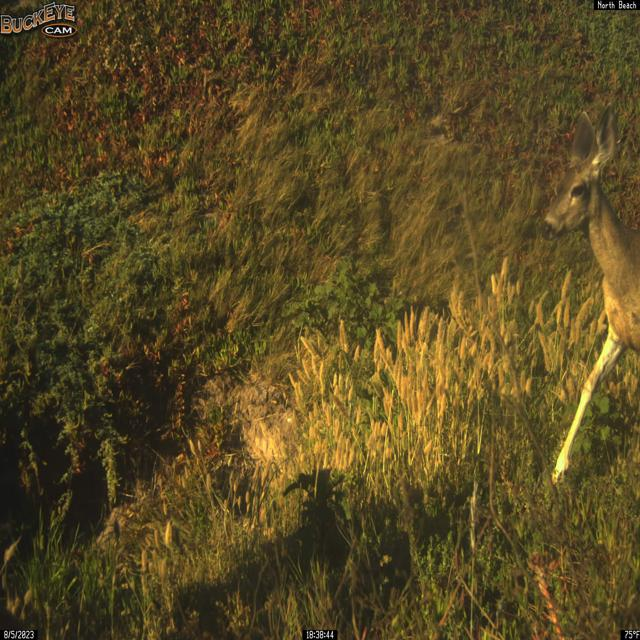deer: (539, 103, 640, 496)
